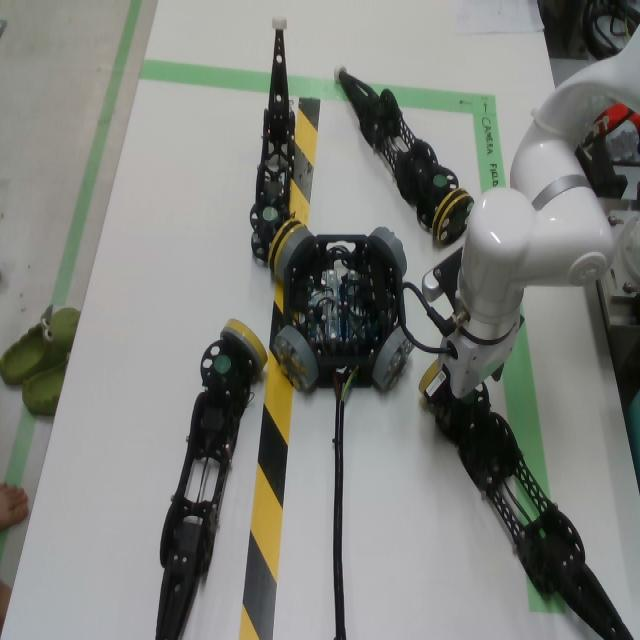body: (283, 235, 406, 389)
body_connector: (273, 325, 319, 392), (372, 327, 415, 392), (277, 227, 314, 280), (370, 227, 408, 276)
gripper: (425, 315, 525, 417)
leg: (418, 359, 634, 640), (155, 319, 268, 640), (333, 61, 474, 251), (249, 19, 305, 273)
leg_connector: (220, 319, 268, 376), (433, 188, 475, 247), (268, 219, 305, 275), (418, 359, 441, 396)
leg_marker: (215, 355, 230, 371), (263, 207, 277, 221), (461, 391, 475, 404), (433, 175, 447, 185)
